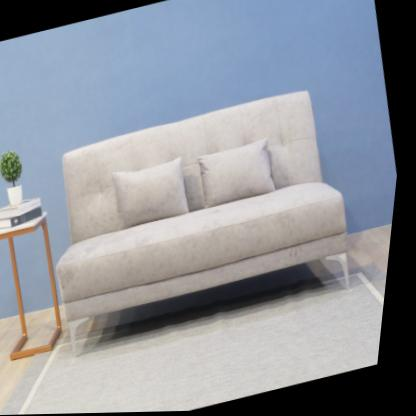Sofa: (37, 89, 366, 318)
